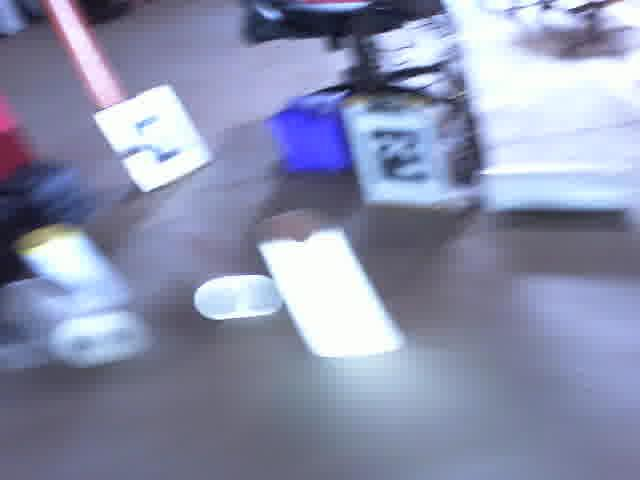coral: (261, 205, 405, 365), (478, 154, 640, 220), (190, 265, 280, 328)
